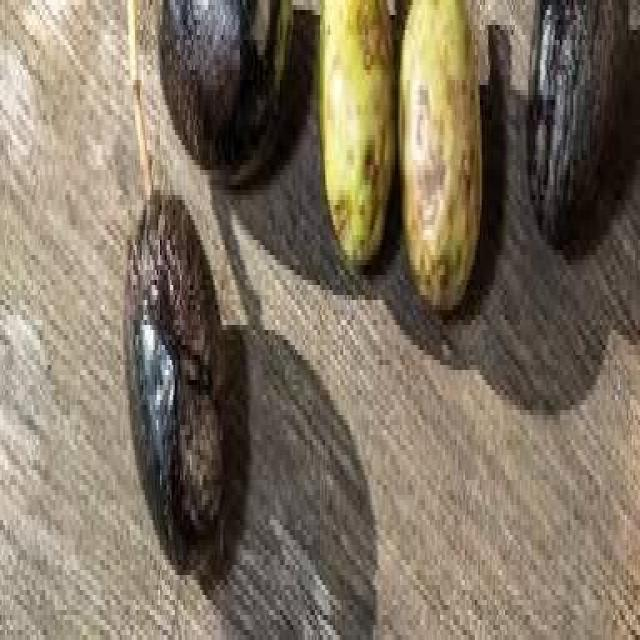Anthracnose: (123, 195, 228, 565), (402, 0, 474, 310), (320, 0, 395, 260)
